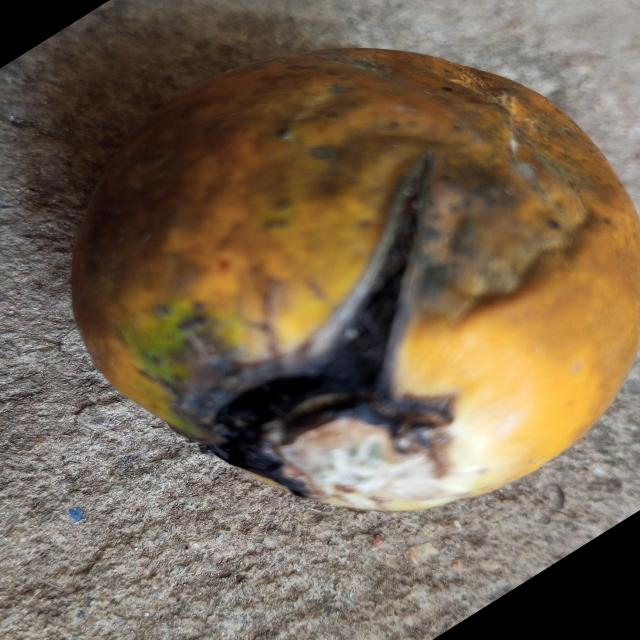damaged: (69, 46, 640, 515)
